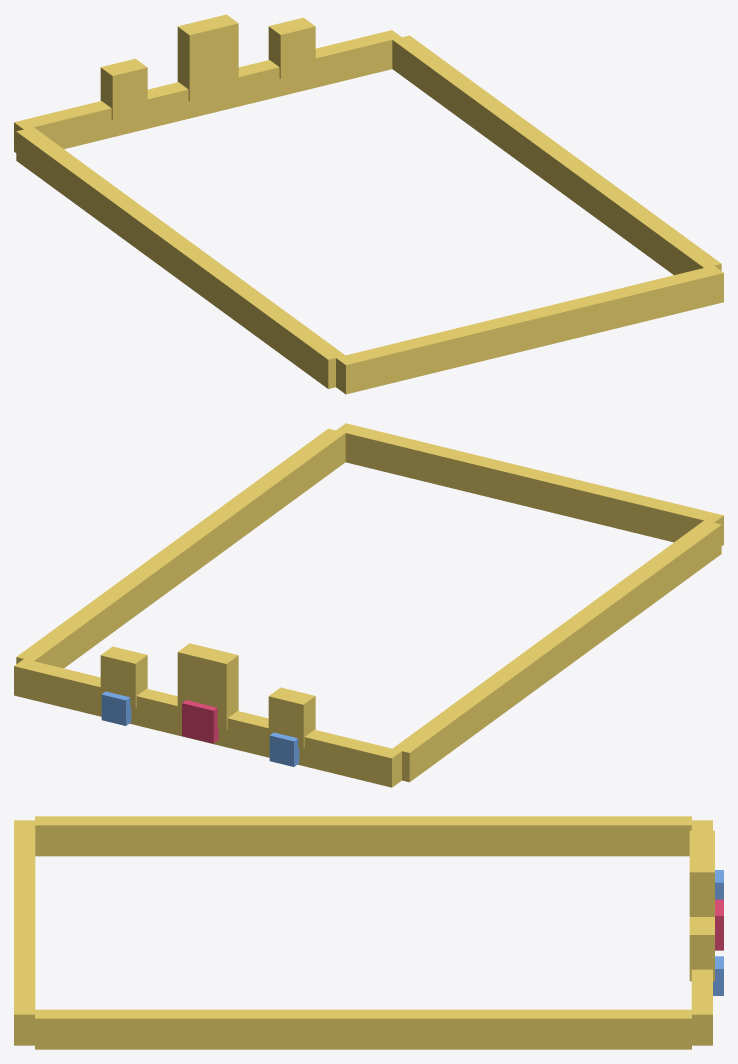
Rendered from tiara_joias.glb.
3 renders of one model, top to bottom at view 1: azimuth 30°, elevation 25°; view 2: azimuth 150°, elevation 25°; view 3: azimuth 270°, elevation 25°, orthographic. The views are drawn at different scales.
Visible parts, largest first — view 1: tiara_joias; view 2: tiara_joias; view 3: tiara_joias.
Boxes of the visible parts, x1=… form: tiara_joias: x1=14, y1=14, x2=723, y2=394; tiara_joias: x1=14, y1=423, x2=723, y2=787; tiara_joias: x1=14, y1=816, x2=723, y2=1049.
Bounding box in the file's own units: 0.562 × 0.115 × 0.834.
